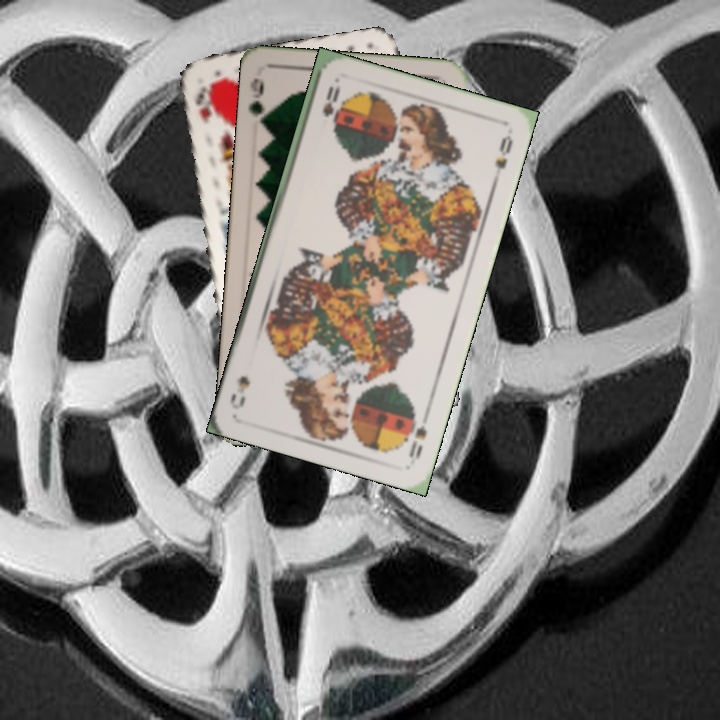G9: (244, 74, 271, 130)
HK: (191, 83, 214, 126)
SO: (405, 409, 430, 462), (318, 82, 343, 119)
